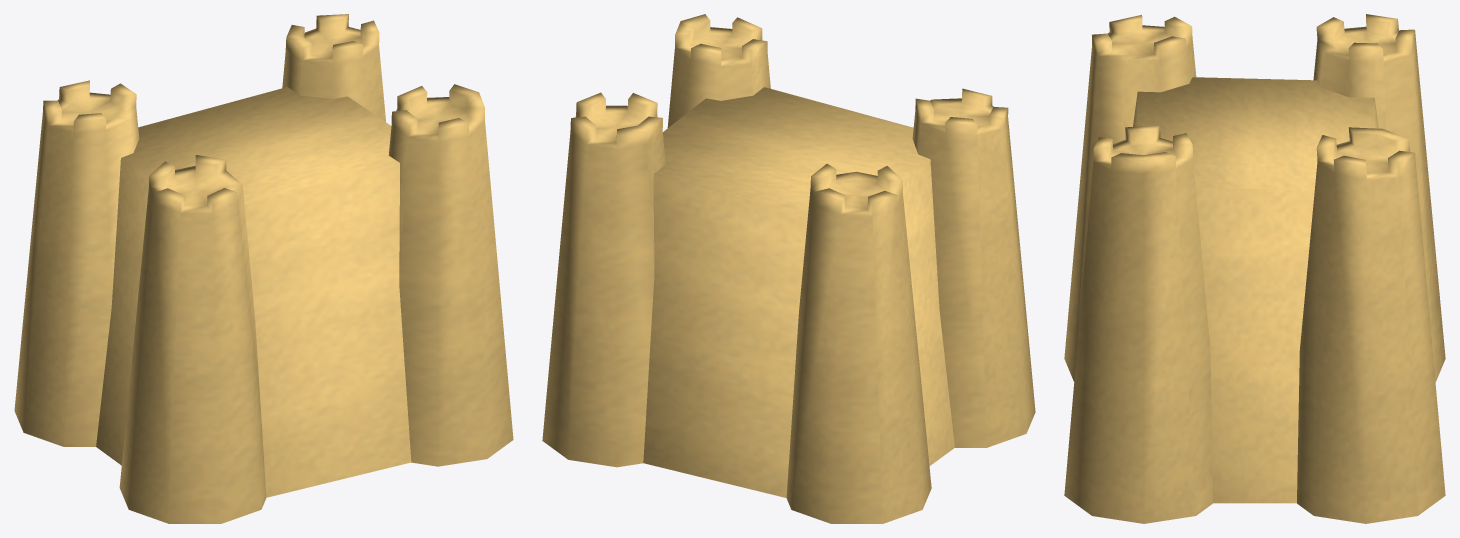
File: SandCastle_02.FBX
3 views of the same model, side by side, from view 1: azimuth 30°, elevation 25°; view 2: azimuth 150°, elevation 25°; view 3: azimuth 270°, elevation 25° (orthographic). The views are drawn at different scales.
Visible parts, largest first — view 1: SandCastle_02; view 2: SandCastle_02; view 3: SandCastle_02.
Part boxes in pixels (left/top/right/bottom): SandCastle_02: left=14, top=14, right=513, bottom=523; SandCastle_02: left=542, top=14, right=1035, bottom=523; SandCastle_02: left=1064, top=14, right=1445, bottom=523.
Size of the model in its own units: 0.4856 by 0.4045 by 0.4101.
